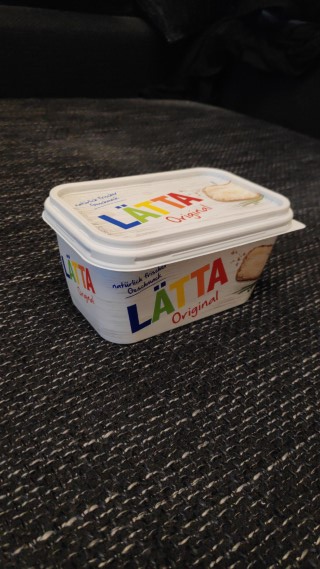laetta: (39, 165, 307, 345)
